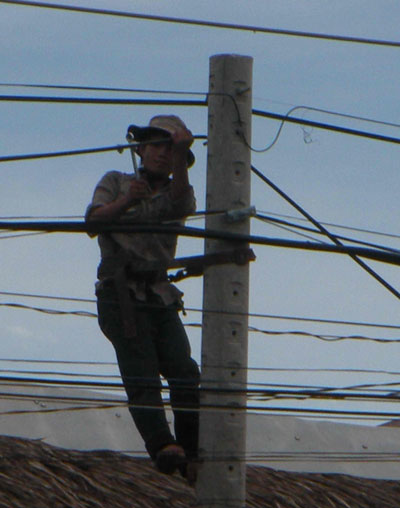infiltrator: (85, 110, 202, 475)
